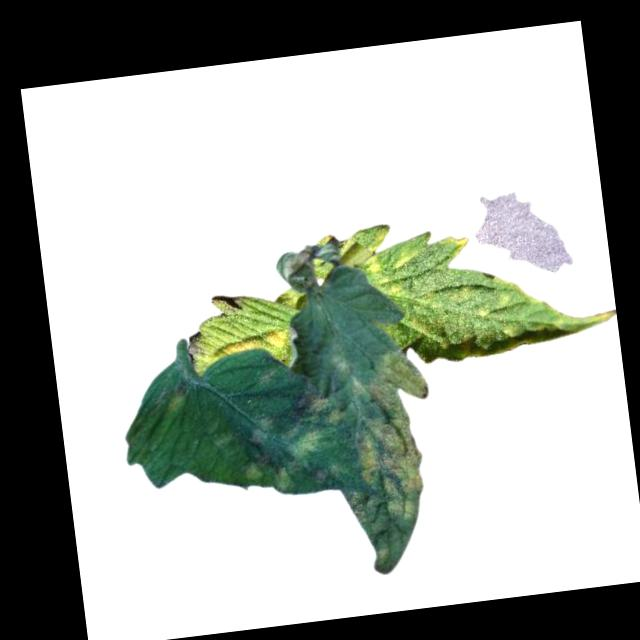Leaf_Mold: (349, 198, 618, 372), (328, 344, 449, 579), (231, 372, 351, 500), (200, 326, 291, 373)
